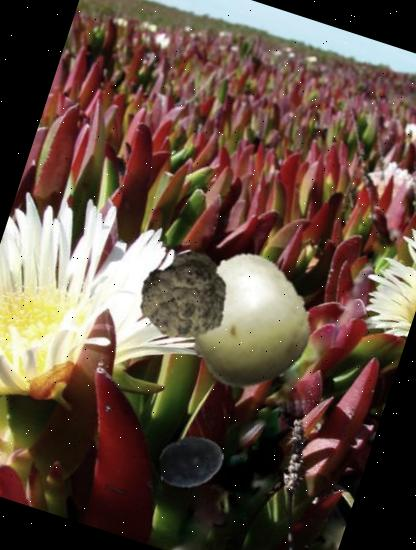Apple: (164, 239, 327, 403)
Blueberry: (151, 422, 232, 502)
Cauliflower: (124, 238, 240, 354)
